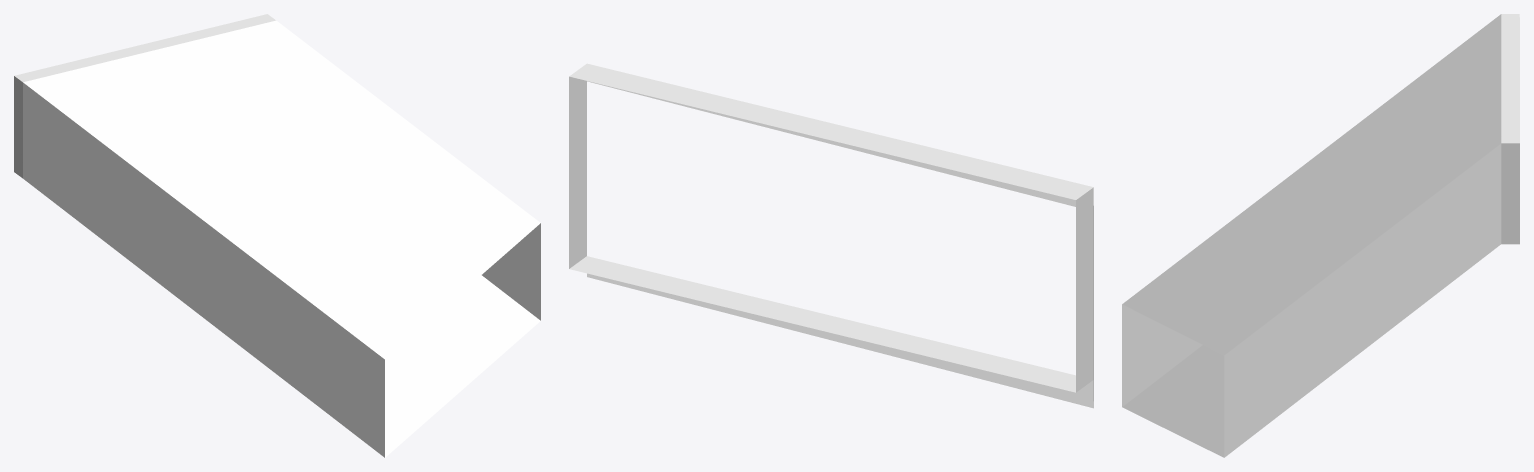
File: set_add_effect_r_01_02.fbx
3 renders of one model, left to right at view 1: azimuth 30°, elevation 25°; view 2: azimuth 150°, elevation 25°; view 3: azimuth 270°, elevation 25°, orthographic. The views are drawn at different scales.
Visible parts, largest first — view 1: set_add_effect_r_01_02; view 2: set_add_effect_r_01_02; view 3: set_add_effect_r_01_02.
Part boxes in pixels (x1,y1,x2,y2): set_add_effect_r_01_02: (14,14,540,457); set_add_effect_r_01_02: (569,63,1093,408); set_add_effect_r_01_02: (1122,14,1519,457).
Bounding box in the file's own units: 132 × 94.29 × 113.
